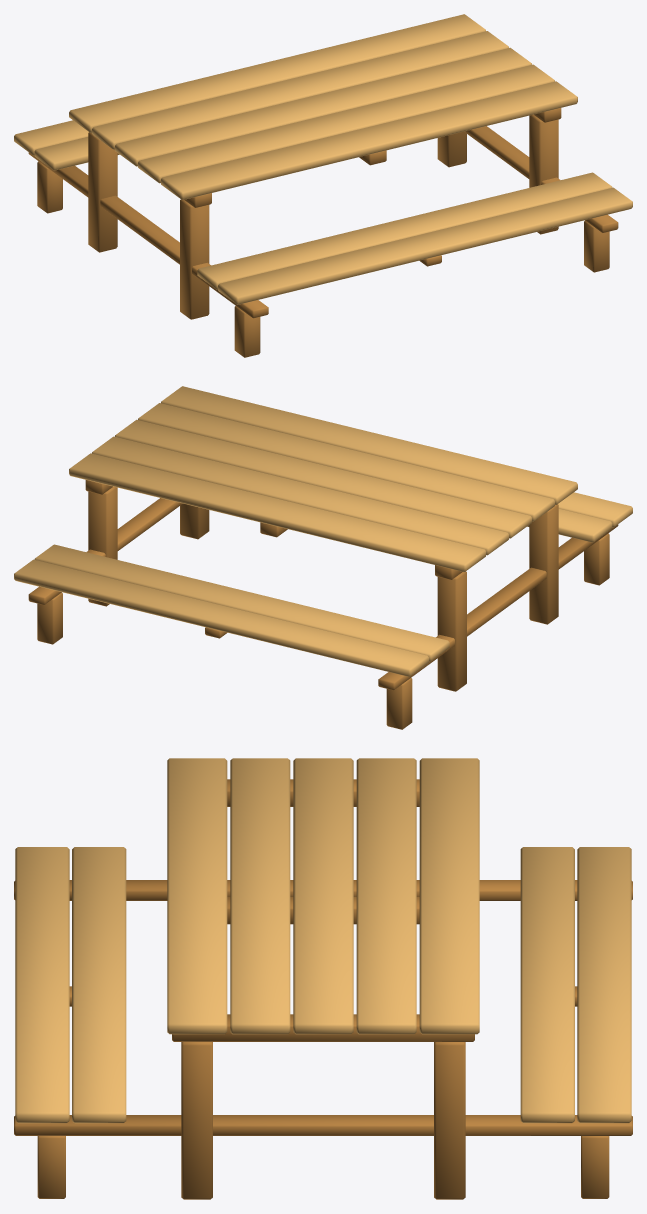
Rendered from PicnicTable.fbx.
3 views of the same model, one above another, from view 1: azimuth 30°, elevation 25°; view 2: azimuth 150°, elevation 25°; view 3: azimuth 270°, elevation 25° (orthographic). The views are drawn at different scales.
Parts seen in each view (by area): view 1: PicnicTable; view 2: PicnicTable; view 3: PicnicTable.
Boxes of the visible parts, <box> form: PicnicTable: <box>14,14,632,357</box>; PicnicTable: <box>14,386,632,729</box>; PicnicTable: <box>14,758,632,1199</box>.
Bounding box in the file's own units: 10 × 3.25 × 9.8.
